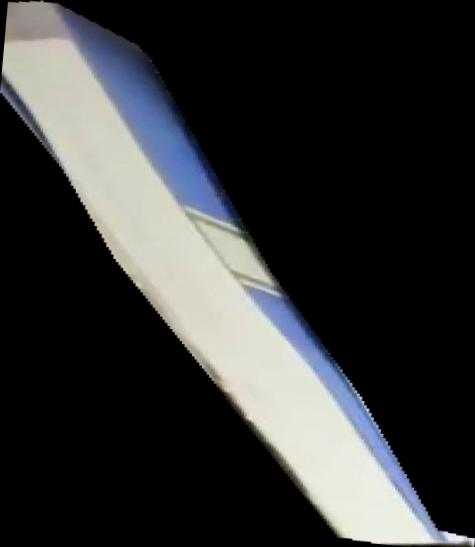backward: (1, 1, 475, 547)
